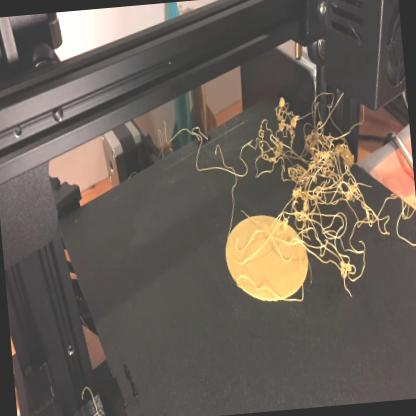fail: (237, 72, 416, 309)
